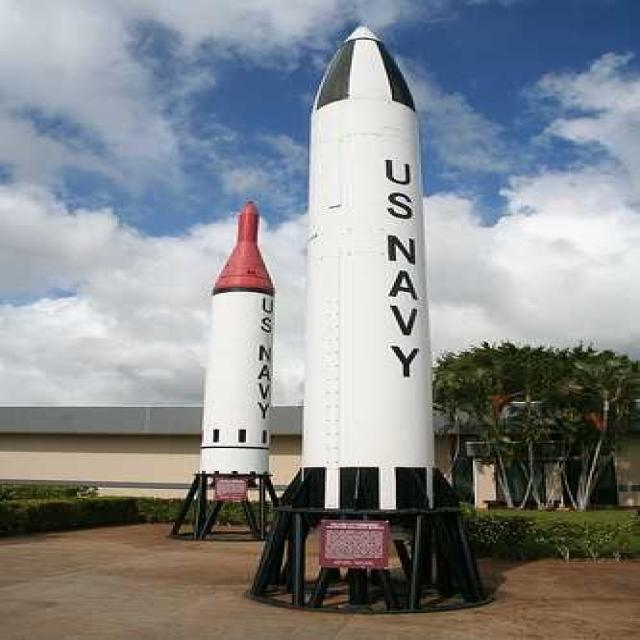missile: (250, 21, 499, 600), (183, 207, 294, 542)
